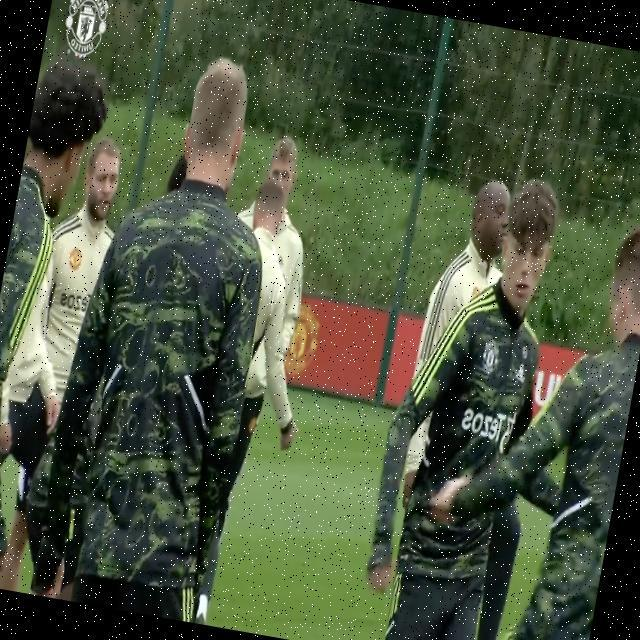Adidas: (513, 361, 528, 385)
